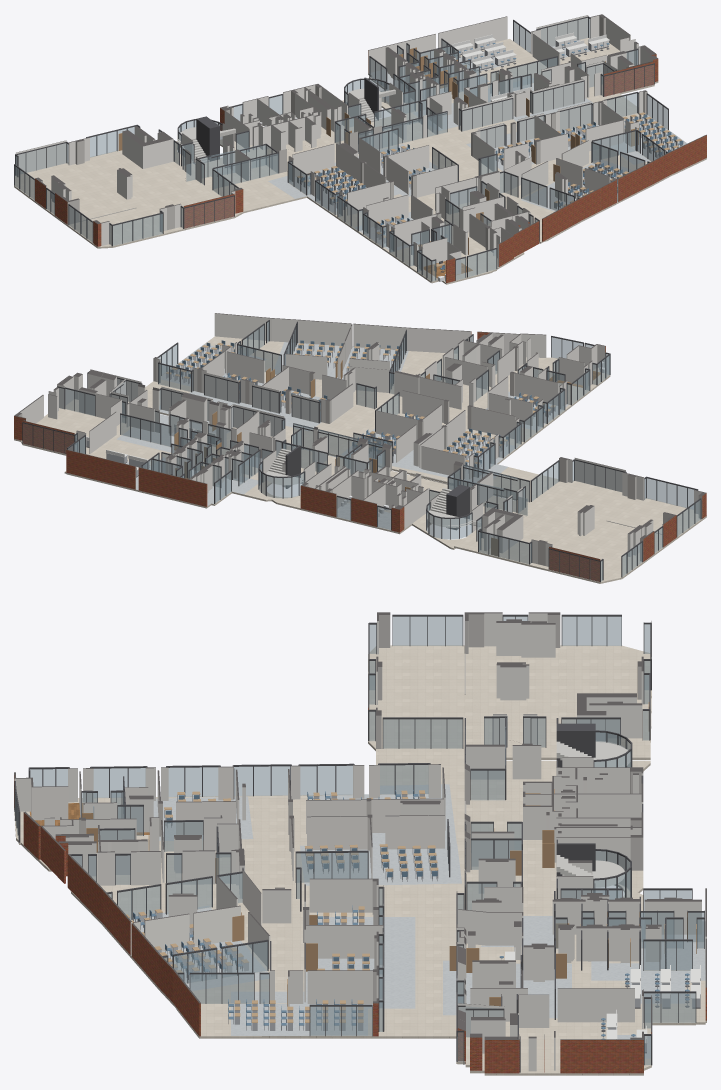
File: floor-2.glb
The picture shows the model from 3 angles, top to bottom: view 1: azimuth 30°, elevation 25°; view 2: azimuth 150°, elevation 25°; view 3: azimuth 270°, elevation 25°; orthographic projection. The views are drawn at different scales.
Visible parts, largest first — view 1: P2_Walls, P2_Glass, P2_Floor_Slab, P2_Glass_Mullions, P2_Floor_Zones, P2_Glass_Frames_Top, P2_Columns, P2_Furniture_3_3, P2_Doors, P2_Furniture_3_2, P2_Stair_A_West, P2_Furniture_1_2 (+2 smaller); view 2: P2_Walls, P2_Glass, P2_Floor_Slab, P2_Glass_Mullions, P2_Floor_Zones, P2_Glass_Frames_Top, P2_Columns, P2_Stair_A_West, P2_Doors, P2_Stair_A_East, P2_Furniture_3_2, P2_Furniture_1_2 (+4 smaller); view 3: P2_Walls, P2_Floor_Slab, P2_Glass, P2_Floor_Zones, P2_Glass_Mullions, P2_Glass_Frames_Top, P2_Columns, P2_Doors, P2_Furniture_2_2, P2_Furniture_3_2, P2_Stair_A_West, P2_Furniture_3_3 (+3 smaller).
Boxes of the visible parts, x1,y1,x2,y2 form: P2_Walls: [15, 15, 706, 282]; P2_Glass: [14, 18, 667, 281]; P2_Floor_Slab: [14, 37, 706, 284]; P2_Glass_Mullions: [14, 18, 668, 281]; P2_Floor_Zones: [268, 40, 686, 278]; P2_Glass_Frames_Top: [14, 16, 668, 261]; P2_Columns: [35, 14, 647, 250]; P2_Furniture_3_3: [451, 32, 609, 101]; P2_Doors: [118, 47, 638, 254]; P2_Furniture_3_2: [557, 112, 683, 169]; P2_Stair_A_West: [177, 116, 235, 164]; P2_Furniture_1_2: [297, 166, 365, 209]; P2_Walls: [17, 313, 702, 581]; P2_Glass: [23, 322, 700, 581]; P2_Floor_Slab: [14, 336, 706, 583]; P2_Glass_Mullions: [22, 320, 701, 582]; P2_Floor_Zones: [116, 342, 600, 529]; P2_Glass_Frames_Top: [23, 320, 701, 561]; P2_Columns: [14, 346, 706, 565]; P2_Stair_A_West: [427, 484, 481, 530]; P2_Doors: [168, 359, 527, 556]; P2_Stair_A_East: [266, 445, 304, 488]; P2_Furniture_3_2: [166, 342, 260, 398]; P2_Furniture_1_2: [443, 428, 508, 472]; P2_Walls: [14, 612, 706, 1073]; P2_Floor_Slab: [14, 645, 706, 1075]; P2_Glass: [15, 616, 704, 1065]; P2_Floor_Zones: [29, 784, 705, 1058]; P2_Glass_Mullions: [14, 615, 704, 1072]; P2_Glass_Frames_Top: [14, 614, 704, 1041]; P2_Columns: [79, 612, 643, 1073]; P2_Doors: [82, 702, 696, 1006]; P2_Furniture_2_2: [305, 844, 438, 924]; P2_Furniture_3_2: [235, 953, 369, 1030]; P2_Stair_A_West: [556, 723, 630, 767]; P2_Furniture_3_3: [499, 947, 700, 1053].
Bounding box in the file's own units: 77.07 × 4.3 × 53.14.
Materials: 20 (5 with a texture image).
